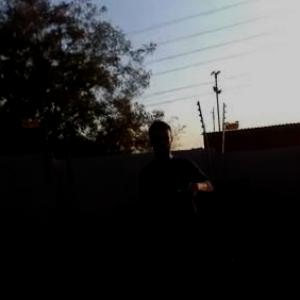follow: (133, 104, 221, 299)
